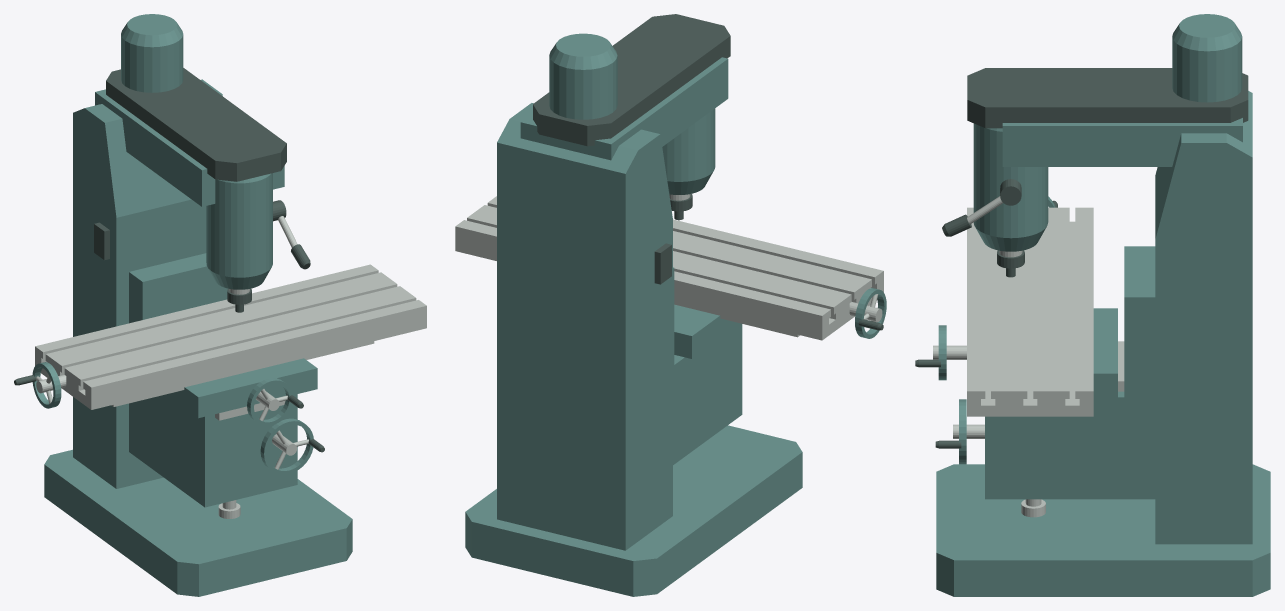
The picture shows the model from 3 angles, left to right: view 1: azimuth 30°, elevation 25°; view 2: azimuth 150°, elevation 25°; view 3: azimuth 270°, elevation 25°; orthographic projection. The views are drawn at different scales.
Parts seen in each view (by area): view 1: WholeThreeTSlotLongWorkTable, WholeBroadCastGroundBase, WholeTallTaperedRearColumn, WholeContinuousLiftingKnee, WholeUpperDriveCover, WholeVerticalFrontHead, WholeHighRearDriveHousing, WholeFixedTopRam, WholeLongitudinalSaddle, WholeKneeFeedWheelOpenRim, WholeCrossFeedWheelOpenRim, WholeTableEndWheelOpenRim; view 2: WholeTallTaperedRearColumn, WholeBroadCastGroundBase, WholeThreeTSlotLongWorkTable, WholeUpperDriveCover, WholeContinuousLiftingKnee, WholeHighRearDriveHousing, WholeFixedTopRam, WholeVerticalFrontHead, WholeLongitudinalSaddle, WholeTableEndWheelOpenRim, WholeProudColumnControl; view 3: WholeTallTaperedRearColumn, WholeBroadCastGroundBase, WholeThreeTSlotLongWorkTable, WholeContinuousLiftingKnee, WholeUpperDriveCover, WholeFixedTopRam, WholeVerticalFrontHead, WholeHighRearDriveHousing, WholeLongitudinalSaddle, WholeKneeFeedWheelOpenRim, WholeHeadSideFeedHub, WholeCrossFeedWheelOpenRim.
Part boxes in pixels (<box>): WholeThreeTSlotLongWorkTable: <box>35,264,426,409</box>; WholeBroadCastGroundBase: <box>44,449,352,596</box>; WholeTallTaperedRearColumn: <box>73,79,222,488</box>; WholeContinuousLiftingKnee: <box>129,253,297,507</box>; WholeUpperDriveCover: <box>106,68,286,181</box>; WholeVerticalFrontHead: <box>206,173,272,289</box>; WholeHighRearDriveHousing: <box>121,14,183,92</box>; WholeFixedTopRam: <box>95,89,284,206</box>; WholeLongitudinalSaddle: <box>166,358,317,418</box>; WholeKneeFeedWheelOpenRim: <box>260,418,313,474</box>; WholeCrossFeedWheelOpenRim: <box>247,378,292,425</box>; WholeTableEndWheelOpenRim: <box>32,362,61,408</box>; WholeTallTaperedRearColumn: <box>497,103,672,550</box>; WholeBroadCastGroundBase: <box>465,425,802,596</box>; WholeThreeTSlotLongWorkTable: <box>455,196,883,340</box>; WholeUpperDriveCover: <box>533,14,730,146</box>; WholeContinuousLiftingKnee: <box>673,267,742,464</box>; WholeHighRearDriveHousing: <box>549,33,617,119</box>; WholeFixedTopRam: <box>520,57,728,160</box>; WholeVerticalFrontHead: <box>662,108,715,194</box>; WholeLongitudinalSaddle: <box>674,304,740,358</box>; WholeTableEndWheelOpenRim: <box>855,288,886,338</box>; WholeProudColumnControl: <box>654,243,671,284</box>; WholeTallTaperedRearColumn: <box>1155,91,1252,544</box>; WholeBroadCastGroundBase: <box>936,464,1270,596</box>; WholeThreeTSlotLongWorkTable: <box>967,207,1093,416</box>; WholeContinuousLiftingKnee: <box>985,246,1155,499</box>; WholeUpperDriveCover: <box>967,68,1248,128</box>; WholeFixedTopRam: <box>1002,118,1242,166</box>; WholeVerticalFrontHead: <box>973,123,1048,251</box>; WholeHighRearDriveHousing: <box>1172,14,1242,102</box>; WholeLongitudinalSaddle: <box>1093,308,1117,397</box>; WholeKneeFeedWheelOpenRim: <box>959,399,966,464</box>; WholeHeadSideFeedHub: <box>1000,179,1021,205</box>; WholeCrossFeedWheelOpenRim: <box>938,325,946,380</box>.
Bounding box in the file's own units: 1.49 × 1.78 × 1.09.
